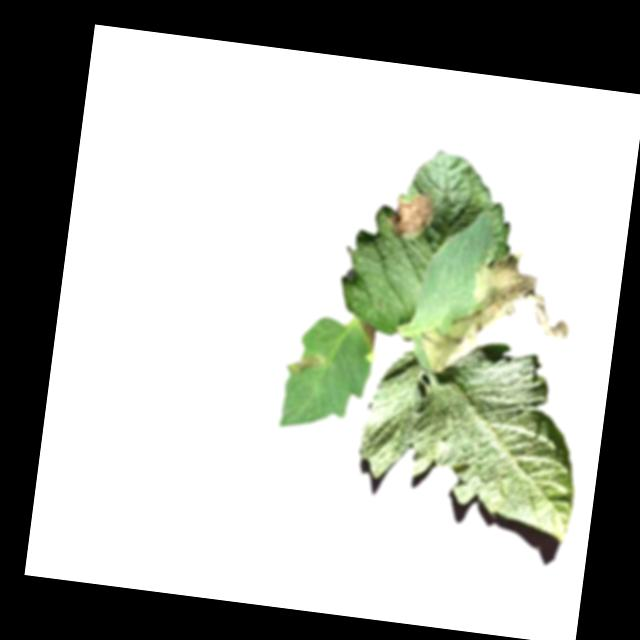Late_blight: (414, 238, 580, 387), (378, 185, 437, 243), (285, 350, 326, 376), (356, 319, 378, 350)
healthy: (347, 327, 592, 543)
